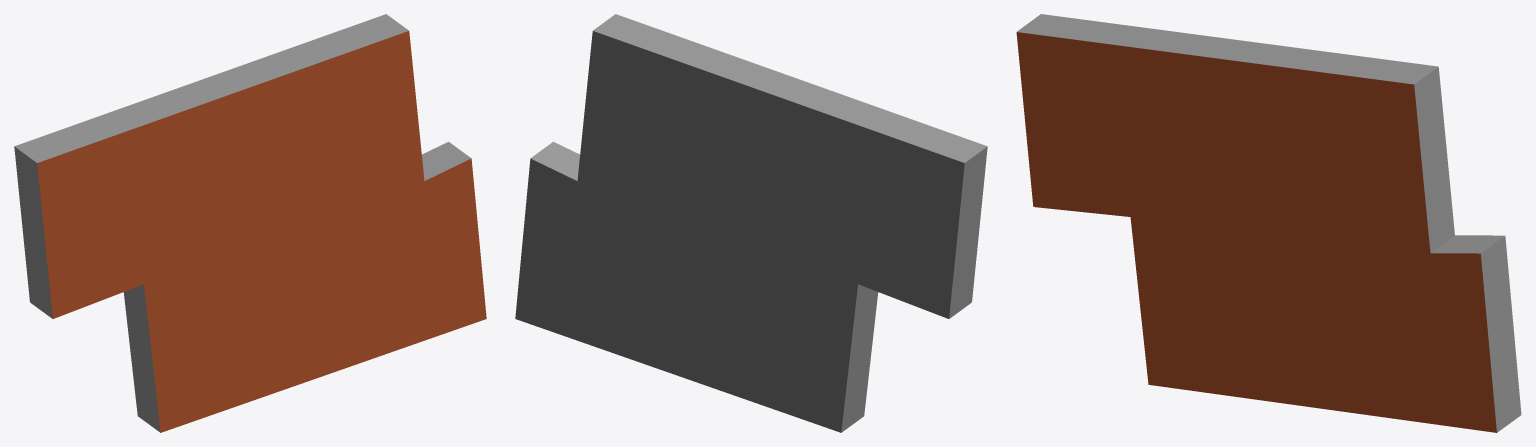
The model's file is construction_6502_assumed_A_Casa_h6m.obj.
3 views of the same model, side by side, from view 1: azimuth 30°, elevation 25°; view 2: azimuth 150°, elevation 25°; view 3: azimuth 330°, elevation 25° (orthographic). The views are drawn at different scales.
Parts seen in each view (by area): view 1: construction_6502_assumed_A_Casa; view 2: construction_6502_assumed_A_Casa; view 3: construction_6502_assumed_A_Casa.
Boxes of the visible parts, <box> form: construction_6502_assumed_A_Casa: <box>14,14,486,432</box>; construction_6502_assumed_A_Casa: <box>515,14,987,432</box>; construction_6502_assumed_A_Casa: <box>1016,14,1521,432</box>.
Bounding box in the file's own units: 67.86 × 49.28 × 6.
